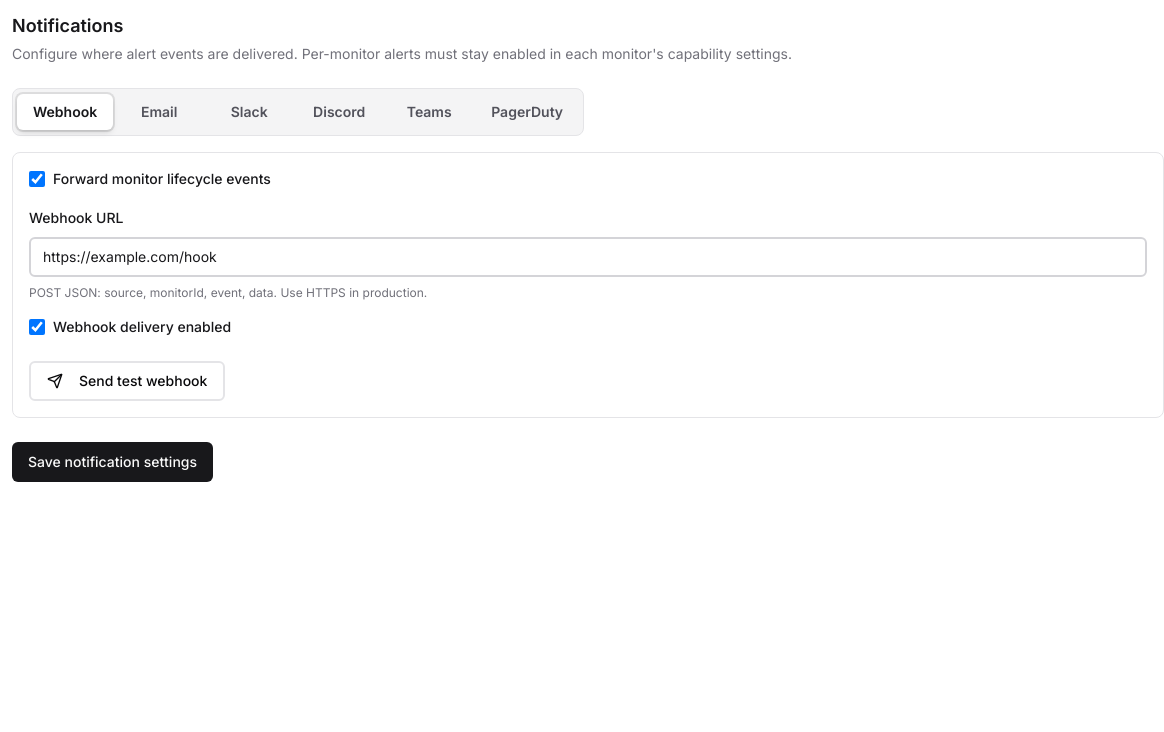
Test: NotificationChannelSettings › loads email settings from API on mount
Click the button "Email".
click(159, 112)  # box [115, 94, 203, 130]
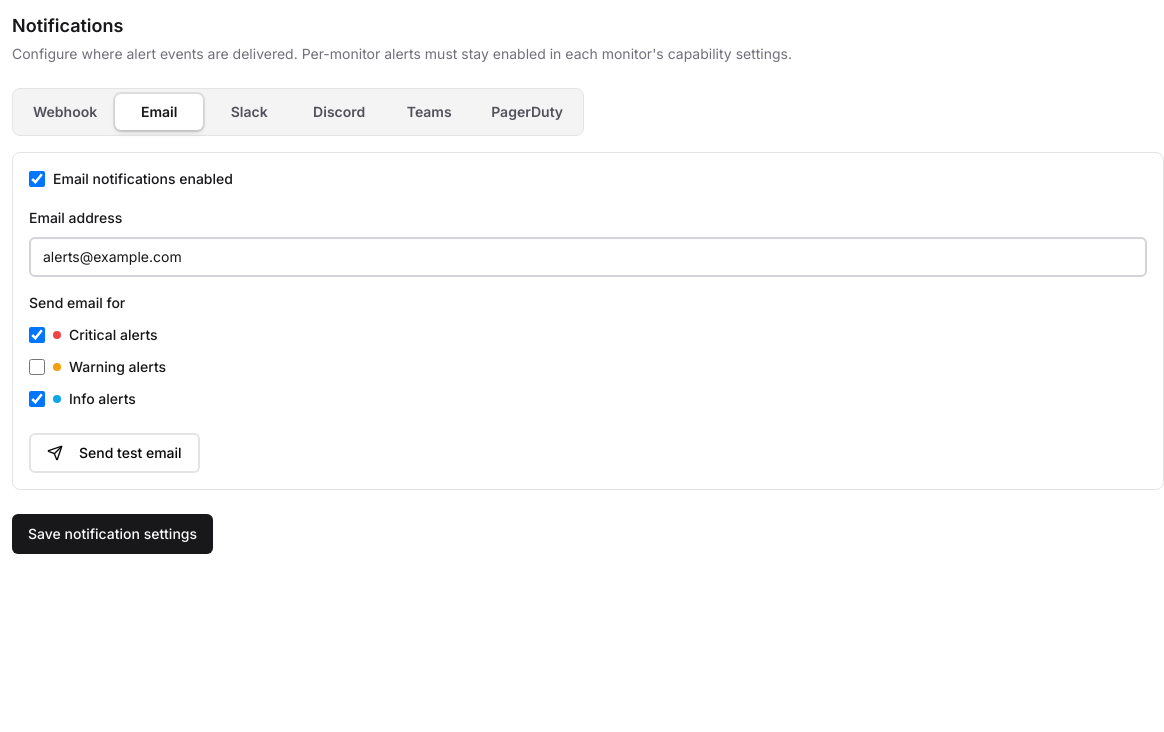
Result: the field labelled "Email address" holds "alerts@example.com" at [29, 237, 1147, 277]
Result: the checkbox labelled "Warning alerts" is not checked at [29, 359, 45, 375]
